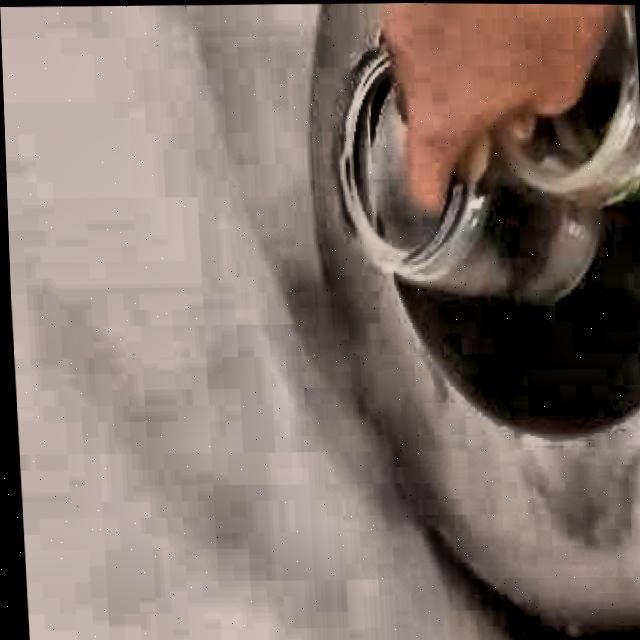glass: (339, 4, 640, 301)
